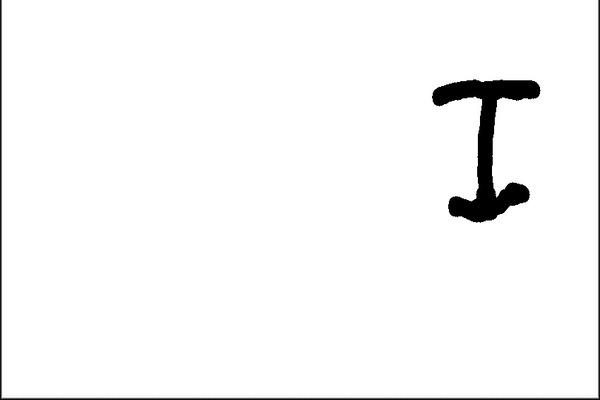i: (413, 65, 559, 220)
